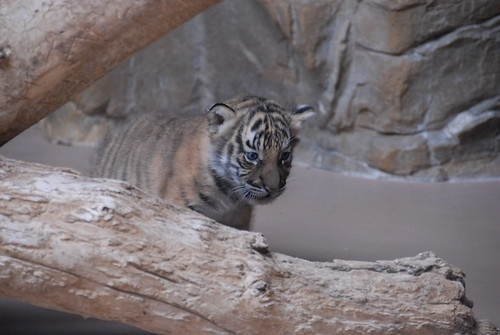tigre: (79, 97, 314, 231)
